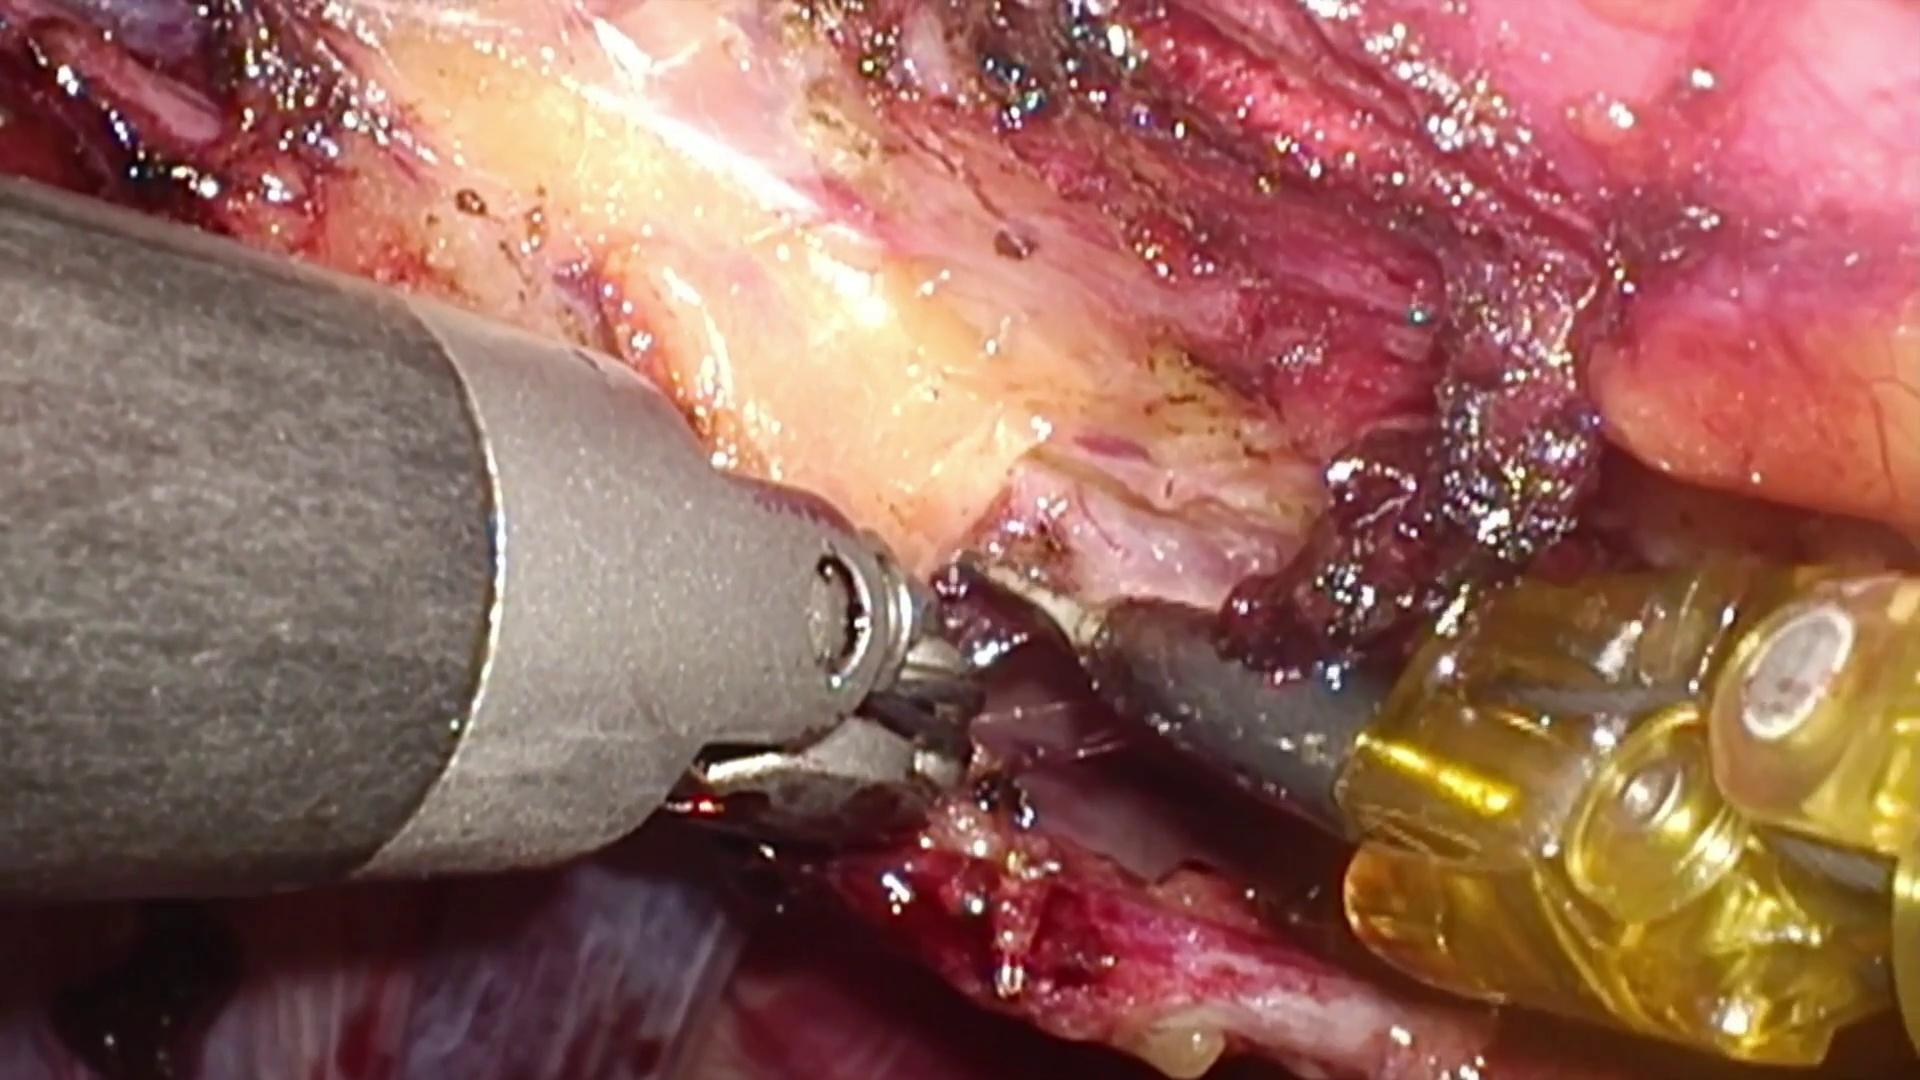Cautery_Spatula: (967, 549, 1379, 828)
Debakey: (880, 750, 1035, 866)
